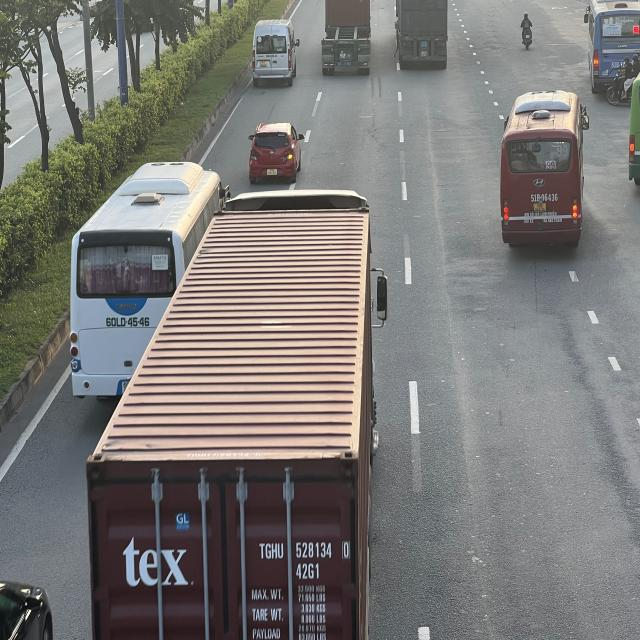car: (247, 121, 305, 183)
coach: (70, 157, 209, 396), (502, 88, 589, 246), (585, 2, 637, 95)
container: (86, 185, 392, 638), (394, 0, 450, 69), (324, 0, 371, 75)
van: (252, 18, 301, 84)
